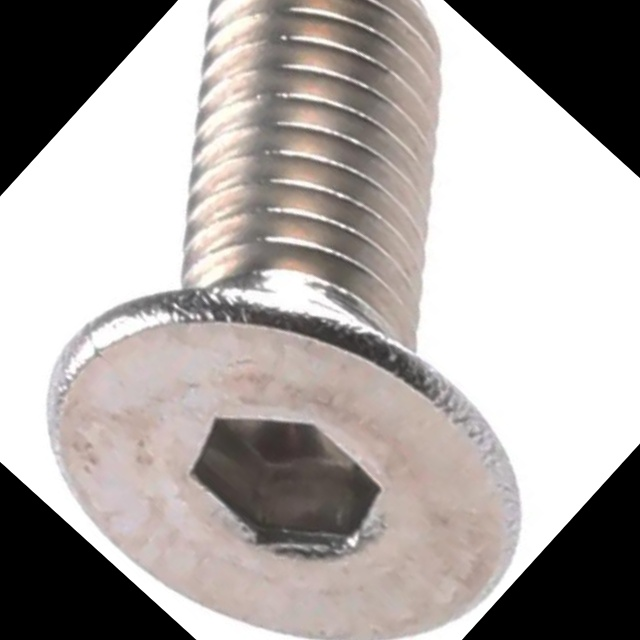allen: (0, 171, 583, 640)
